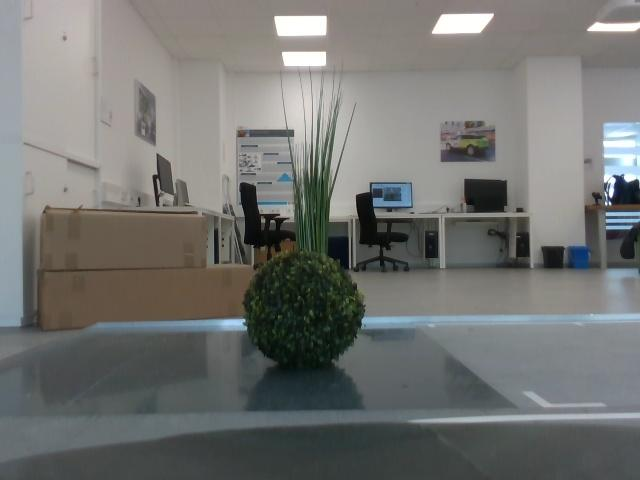potted plant: (235, 250, 368, 372), (277, 70, 359, 248)
